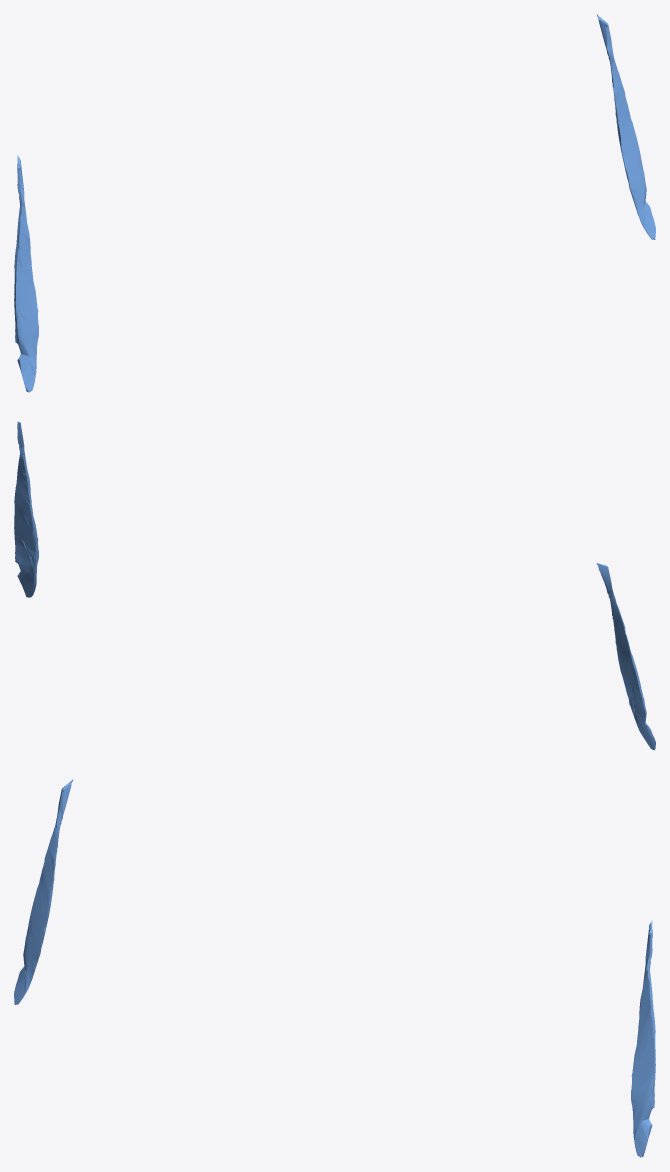
File: supplement-elbow-forearm-connective.glb
3 views of the same model, one above another, from view 1: azimuth 30°, elevation 25°; view 2: azimuth 150°, elevation 25°; view 3: azimuth 330°, elevation 25° (orthographic).
Parts seen in each view (by area): view 1: supplemental:interosseous-membrane-of-forearm:isa:FJ1476, supplemental:interosseous-membrane-of-forearm:isa:FJ1476M; view 2: supplemental:interosseous-membrane-of-forearm:isa:FJ1476M, supplemental:interosseous-membrane-of-forearm:isa:FJ1476; view 3: supplemental:interosseous-membrane-of-forearm:isa:FJ1476M, supplemental:interosseous-membrane-of-forearm:isa:FJ1476.
Boxes of the visible parts, left/top/right/bottom form: supplemental:interosseous-membrane-of-forearm:isa:FJ1476: left=14, top=155, right=38, bottom=392; supplemental:interosseous-membrane-of-forearm:isa:FJ1476M: left=596, top=14, right=655, bottom=239; supplemental:interosseous-membrane-of-forearm:isa:FJ1476M: left=14, top=421, right=38, bottom=597; supplemental:interosseous-membrane-of-forearm:isa:FJ1476: left=596, top=563, right=655, bottom=750; supplemental:interosseous-membrane-of-forearm:isa:FJ1476M: left=631, top=920, right=655, bottom=1157; supplemental:interosseous-membrane-of-forearm:isa:FJ1476: left=14, top=779, right=73, bottom=1004.
Bounding box in the file's own units: 0.5014 × 0.1563 × 0.0481.
